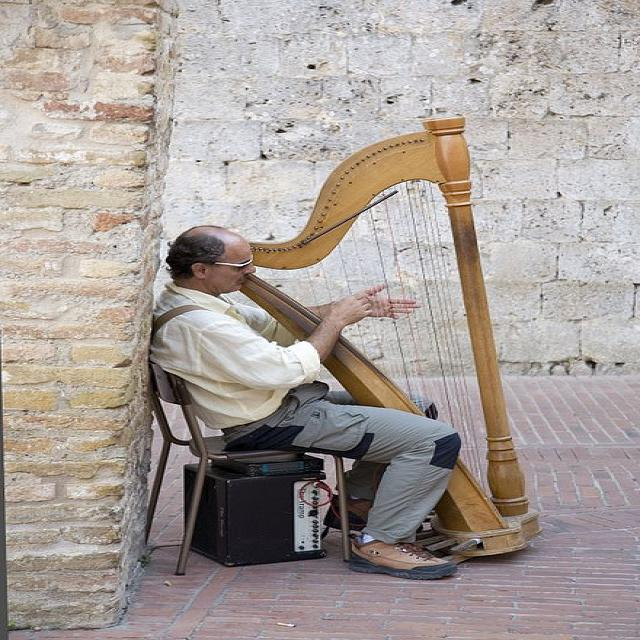harp: (198, 115, 547, 562)
